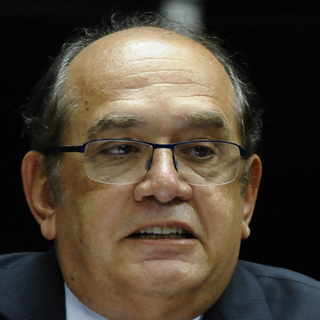eye: (178, 139, 219, 165), (98, 140, 141, 160)
